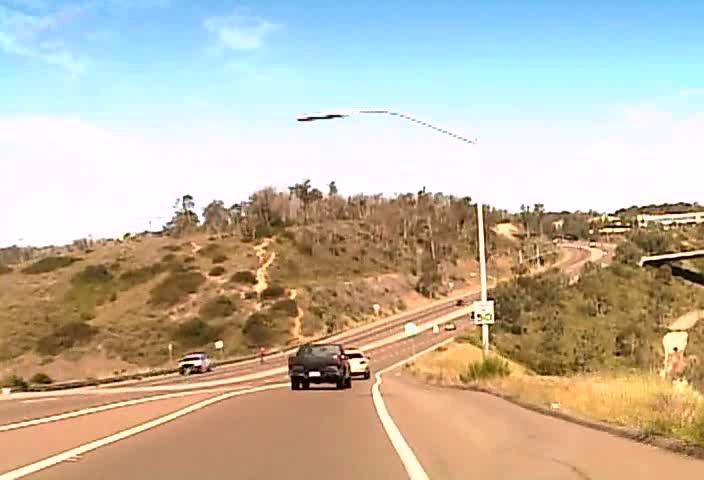speedLimit50: (473, 300, 494, 324)
